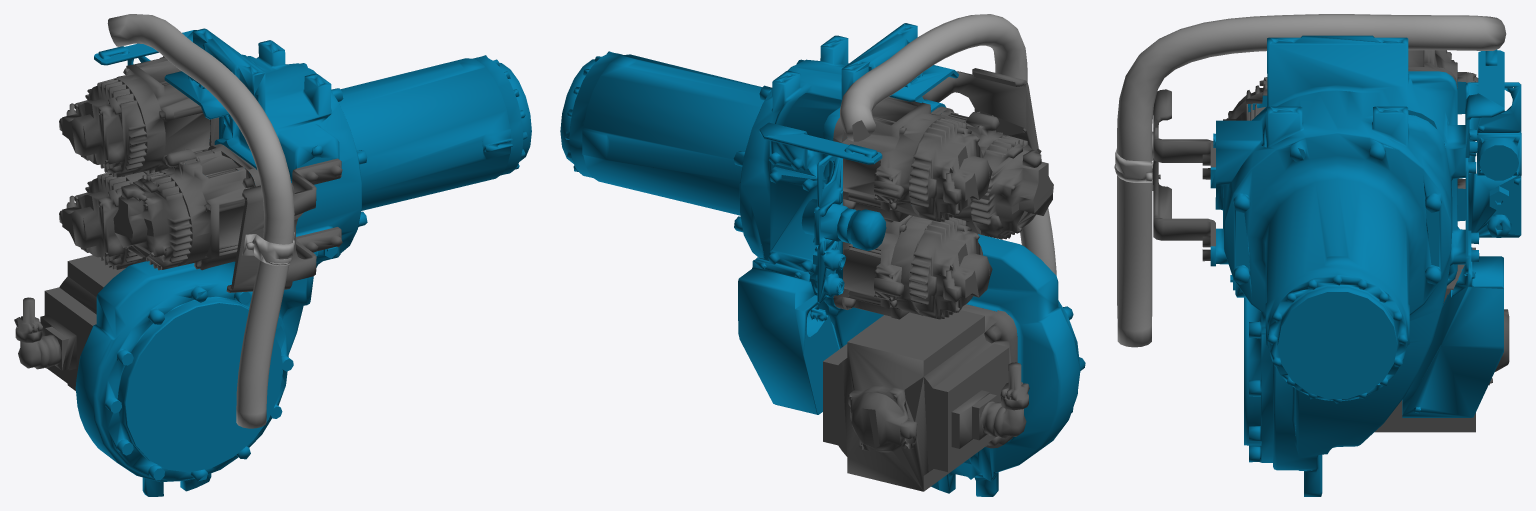
3 renders of one model, left to right at view 1: azimuth 30°, elevation 25°; view 2: azimuth 150°, elevation 25°; view 3: azimuth 270°, elevation 25°, orthographic. The views are drawn at different scales.
Visible parts, largest first — view 1: f_1-06vxl70-a0_lk3; view 2: f_1-06vxl70-a0_lk3; view 3: f_1-06vxl70-a0_lk3.
Part boxes in pixels (bbox=[...]): f_1-06vxl70-a0_lk3: bbox=[14, 14, 531, 496]; f_1-06vxl70-a0_lk3: bbox=[560, 14, 1085, 496]; f_1-06vxl70-a0_lk3: bbox=[1114, 14, 1521, 496].
Size of the model in its own units: 0.6859 by 0.4618 by 0.612.
